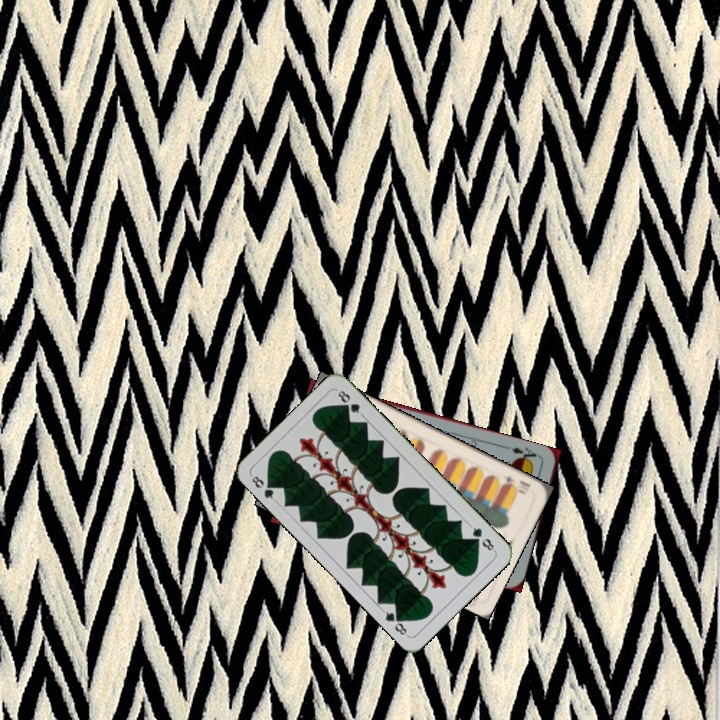E10: (499, 471, 527, 497)
EA: (502, 442, 543, 466)
G8: (466, 522, 498, 554), (248, 472, 279, 504)
